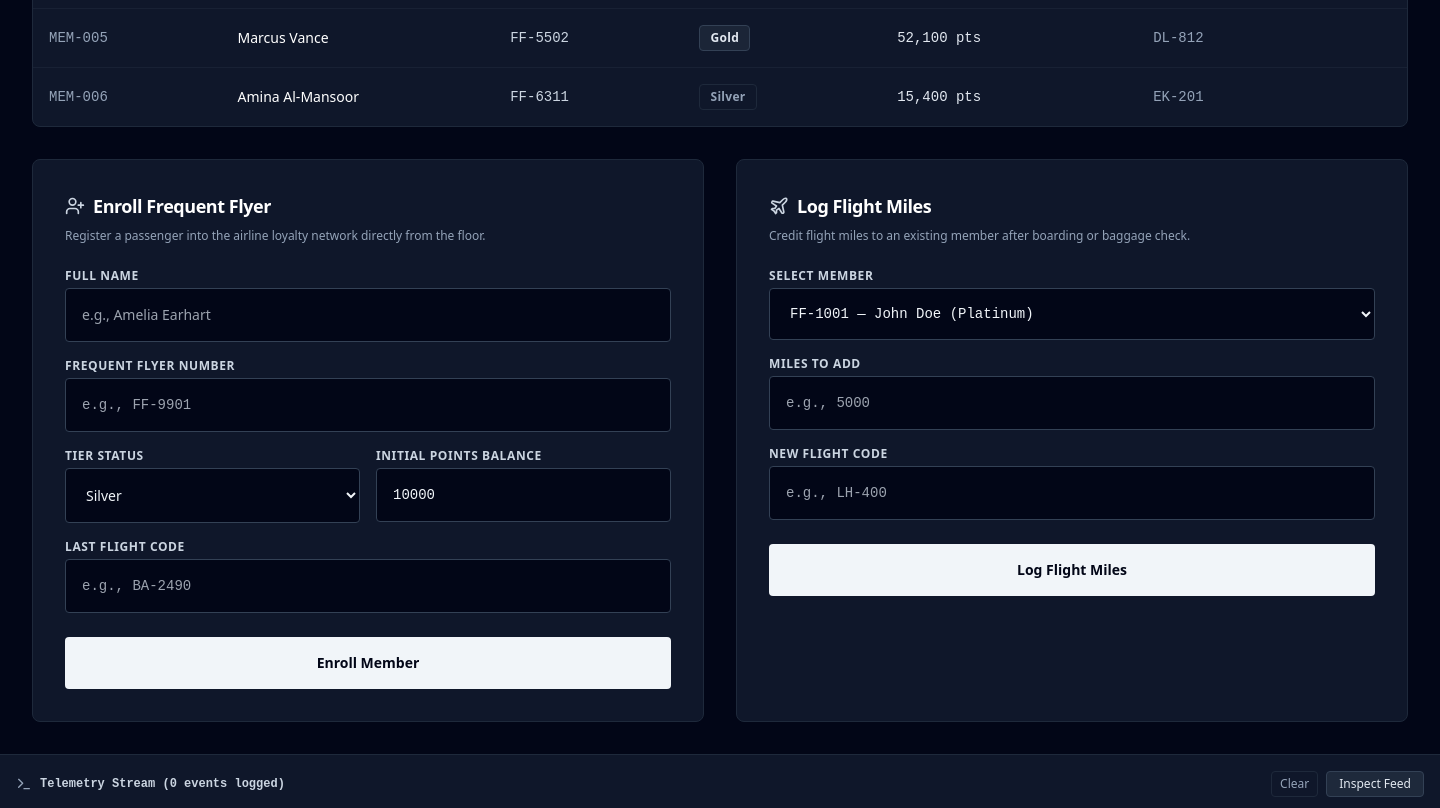
Test: Ticket ENG-163087: Frequent Flyer Portal - Strict TDD Test Suite › 2. Unhappy Path & Edge Cases › rejects invalid FF Number format and highlights field with border-red-600
(page scrolled)
In the field labelled "Frequent Flyer Number": [368, 405] box [65,378,671,432], type "INVALID-12345"
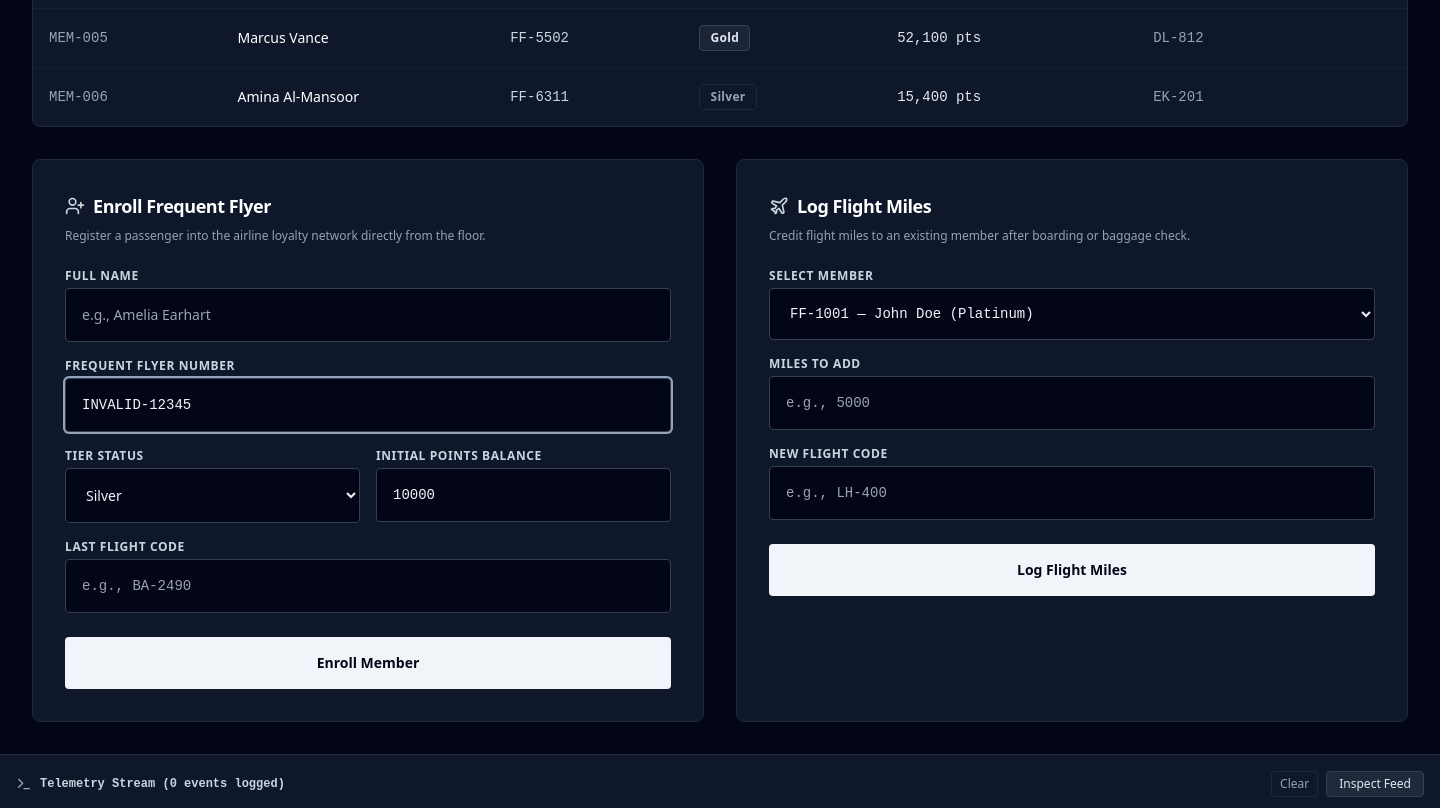
Click the button "Enroll Member": [368, 663] box [65,637,671,689]
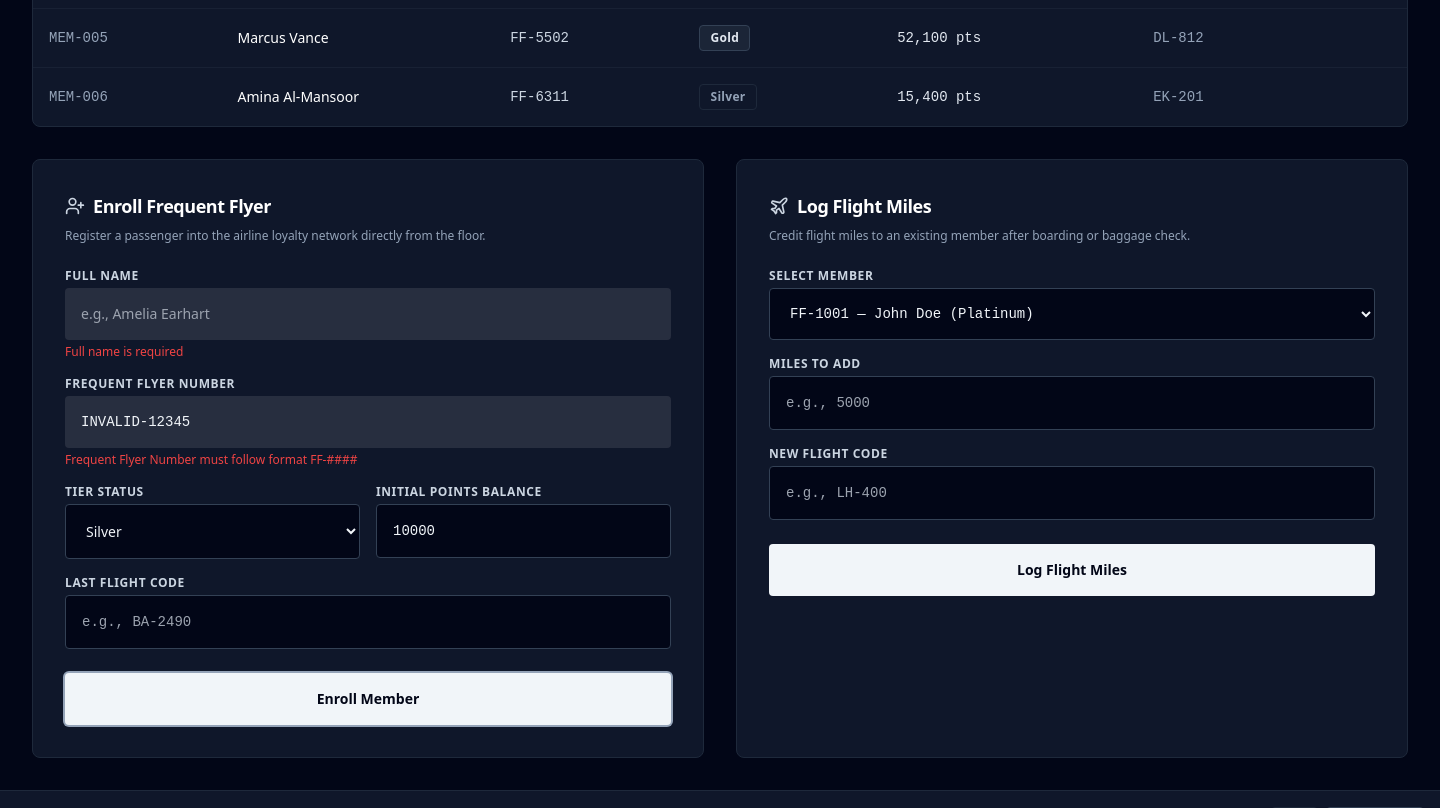
Expected: the text "Frequent Flyer Number must follow format FF-####" is shown, [65,451,358,468]
